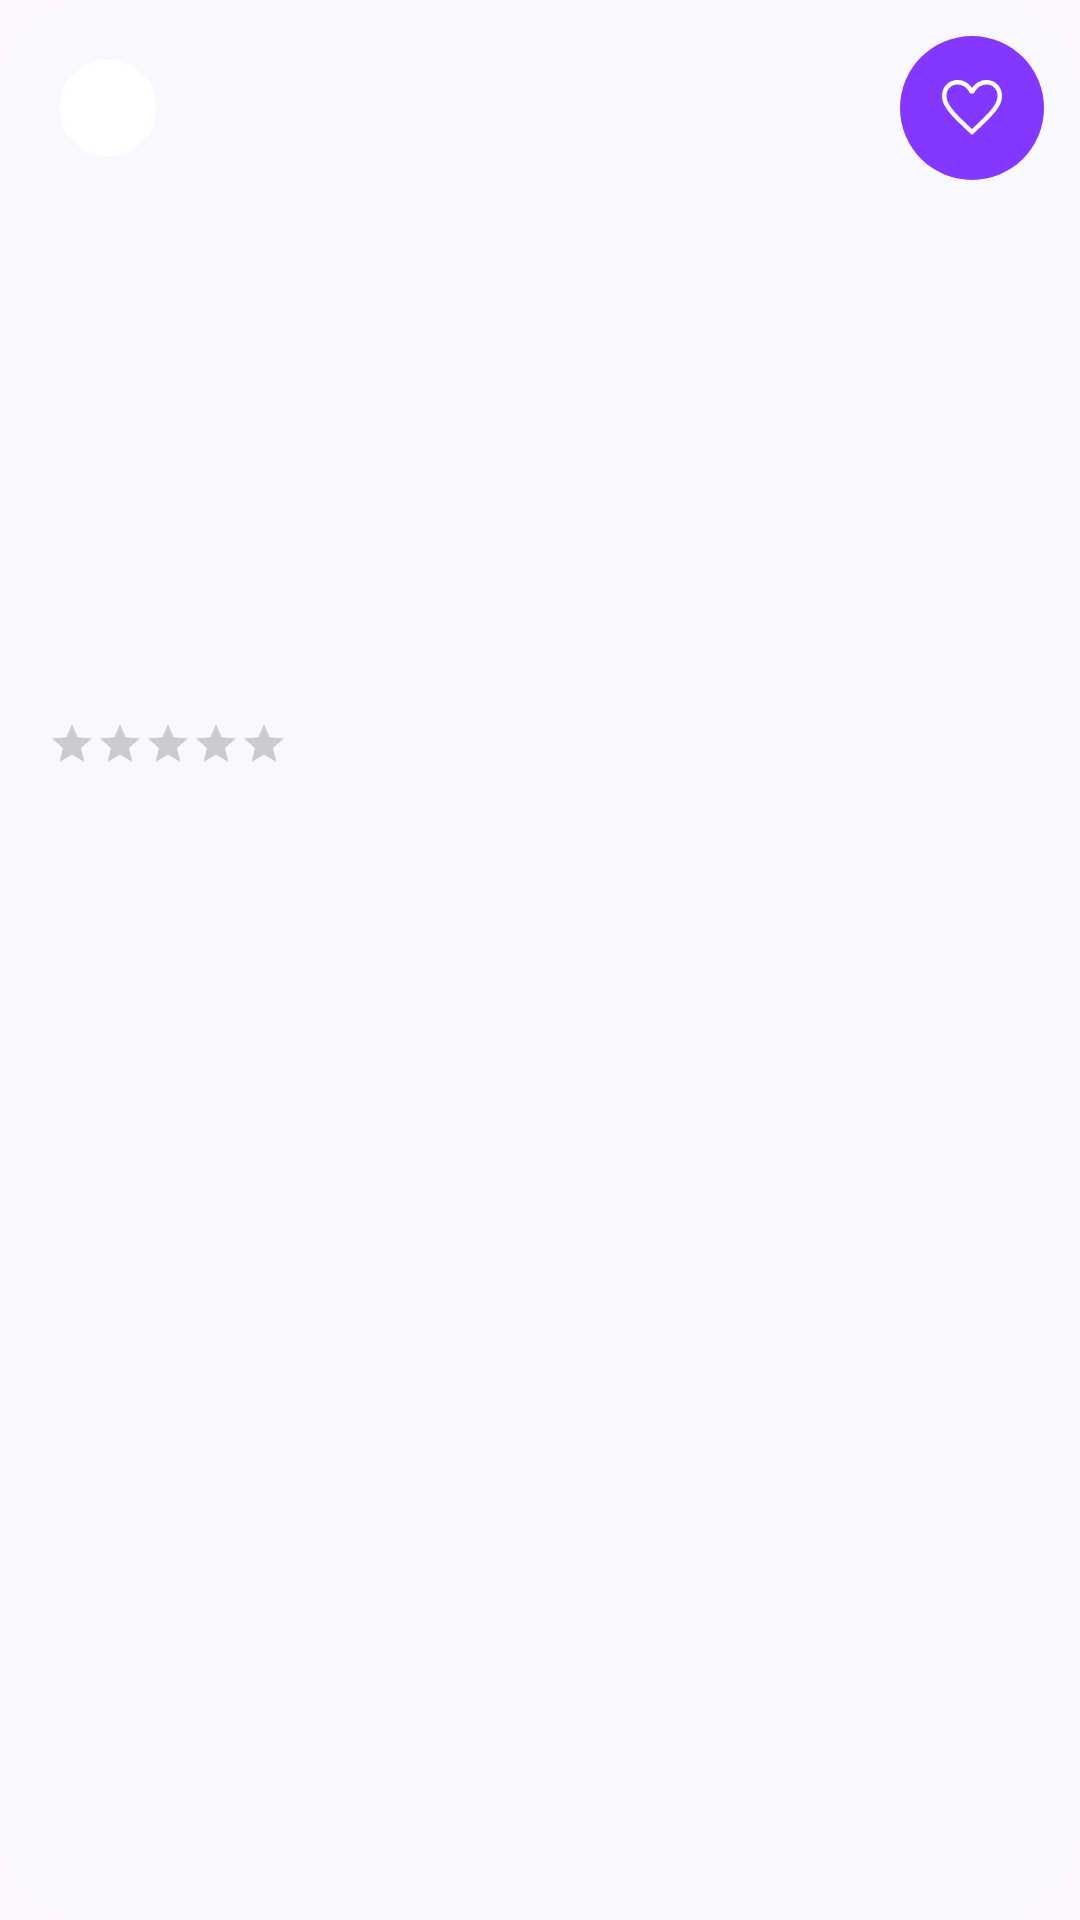

Where to tap for icons on this 1080x1920 app screen, as point (x, y):
favorite: point (972, 108)
